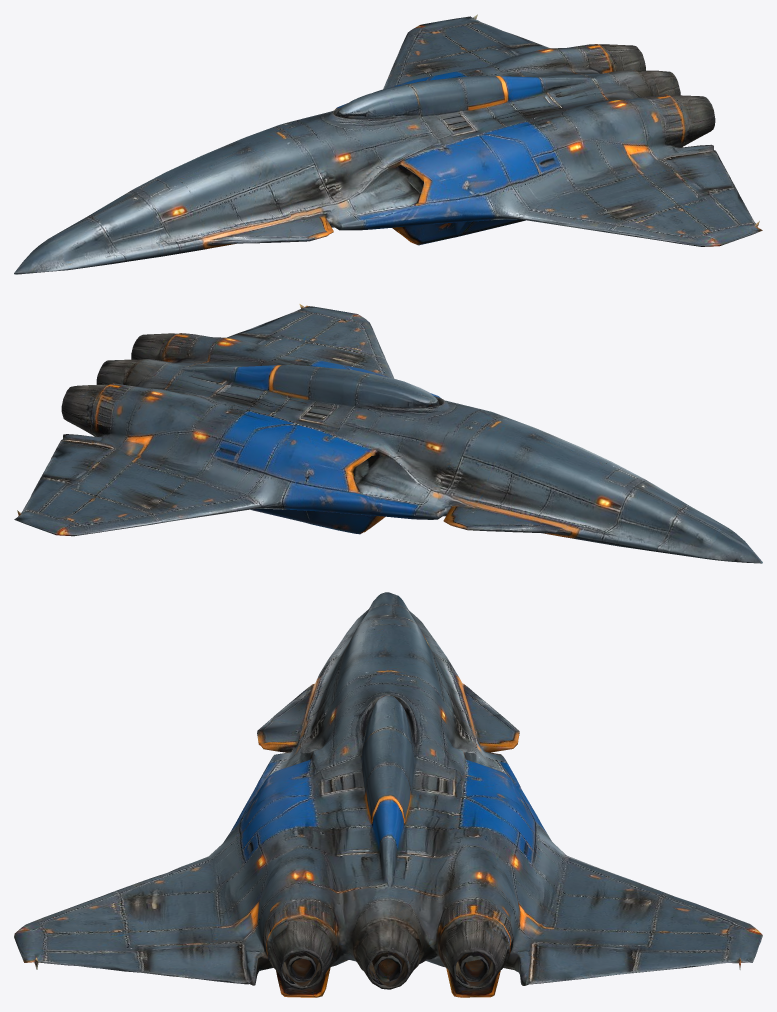
Rendered from Terran_ScoutIII.glb.
The picture shows the model from 3 angles, top to bottom: view 1: azimuth 30°, elevation 25°; view 2: azimuth 150°, elevation 25°; view 3: azimuth 270°, elevation 25°; orthographic projection. The views are drawn at different scales.
Size of the model in its own units: 1.9 by 0.3397 by 1.5.
1 material, 1 textured.
